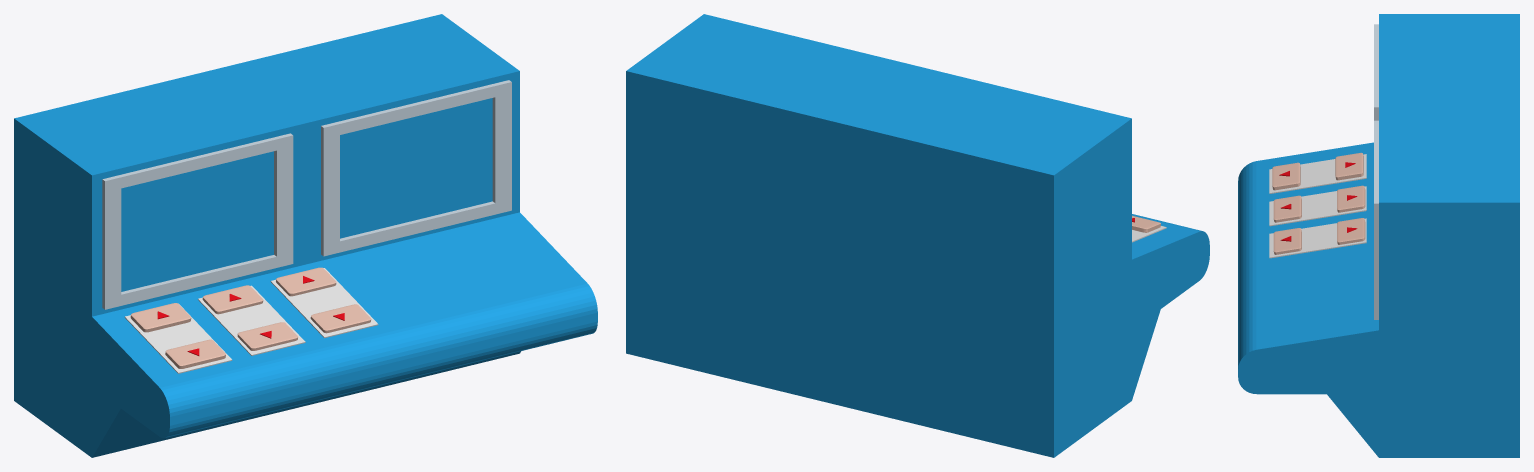
The model's file is ControlPanel_v2.fbx.
3 views of the same model, side by side, from view 1: azimuth 30°, elevation 25°; view 2: azimuth 150°, elevation 25°; view 3: azimuth 270°, elevation 25° (orthographic). The views are drawn at different scales.
Parts seen in each view (by area): view 1: ControlPanel, CoksFeedPanel, LimeFeedPanel, ElectrodeMovementPanel, UpElectrodeButton, DownElectrodeButton, UpFeedLime, UpFeedCoks, DownFeedCoks, DownFeedLime; view 2: ControlPanel; view 3: ControlPanel, ElectrodeMovementPanel, LimeFeedPanel, CoksFeedPanel, DownElectrodeButton, UpElectrodeButton, UpFeedLime, DownFeedLime, DownFeedCoks, UpFeedCoks.
Boxes of the visible parts, <box> form: ControlPanel: <box>14,14,597,457</box>; CoksFeedPanel: <box>270,268,378,338</box>; LimeFeedPanel: <box>198,285,305,355</box>; ElectrodeMovementPanel: <box>124,303,232,373</box>; UpElectrodeButton: <box>130,303,191,332</box>; DownElectrodeButton: <box>165,339,225,368</box>; UpFeedLime: <box>202,285,263,314</box>; UpFeedCoks: <box>276,267,336,296</box>; DownFeedCoks: <box>310,304,371,333</box>; DownFeedLime: <box>237,322,297,350</box>; ControlPanel: <box>626,14,1209,457</box>; ControlPanel: <box>1238,14,1519,457</box>; ElectrodeMovementPanel: <box>1269,154,1366,193</box>; LimeFeedPanel: <box>1269,186,1366,226</box>; CoksFeedPanel: <box>1269,218,1366,258</box>; DownElectrodeButton: <box>1272,162,1300,190</box>; UpElectrodeButton: <box>1335,152,1363,180</box>; UpFeedLime: <box>1337,185,1365,212</box>; DownFeedLime: <box>1273,195,1301,222</box>; DownFeedCoks: <box>1273,228,1301,254</box>; UpFeedCoks: <box>1337,218,1365,244</box>.
Bounding box in the file's own units: 634 × 400 × 400.
